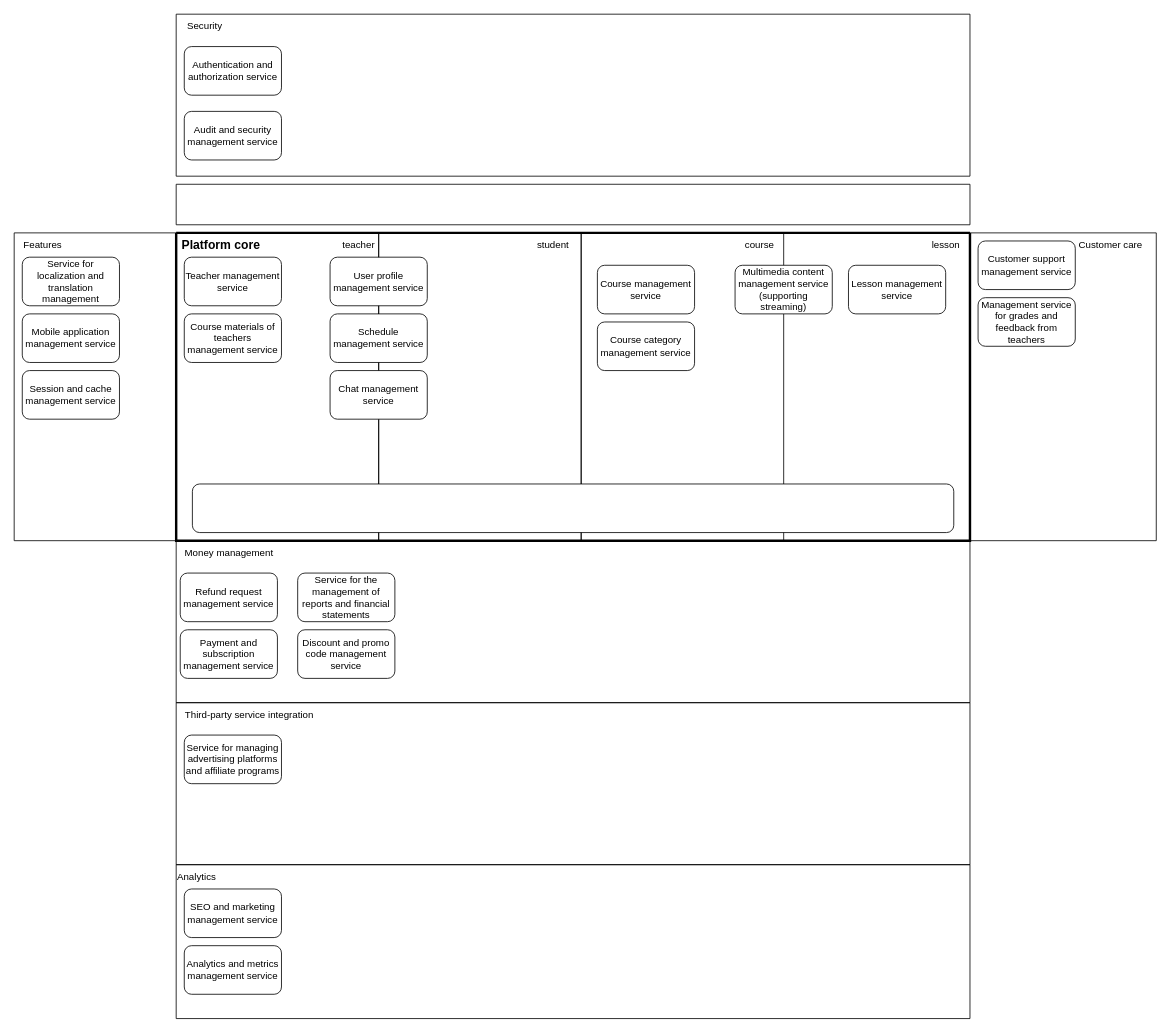
The diagram is 1170 pixels wide and 1033 high, and some of its shapes have lost their labels. Each missing label, with the centre of its shape:
Admining and moderation: (x=572, y=204)
Mailing and notification management service: (x=573, y=508)
